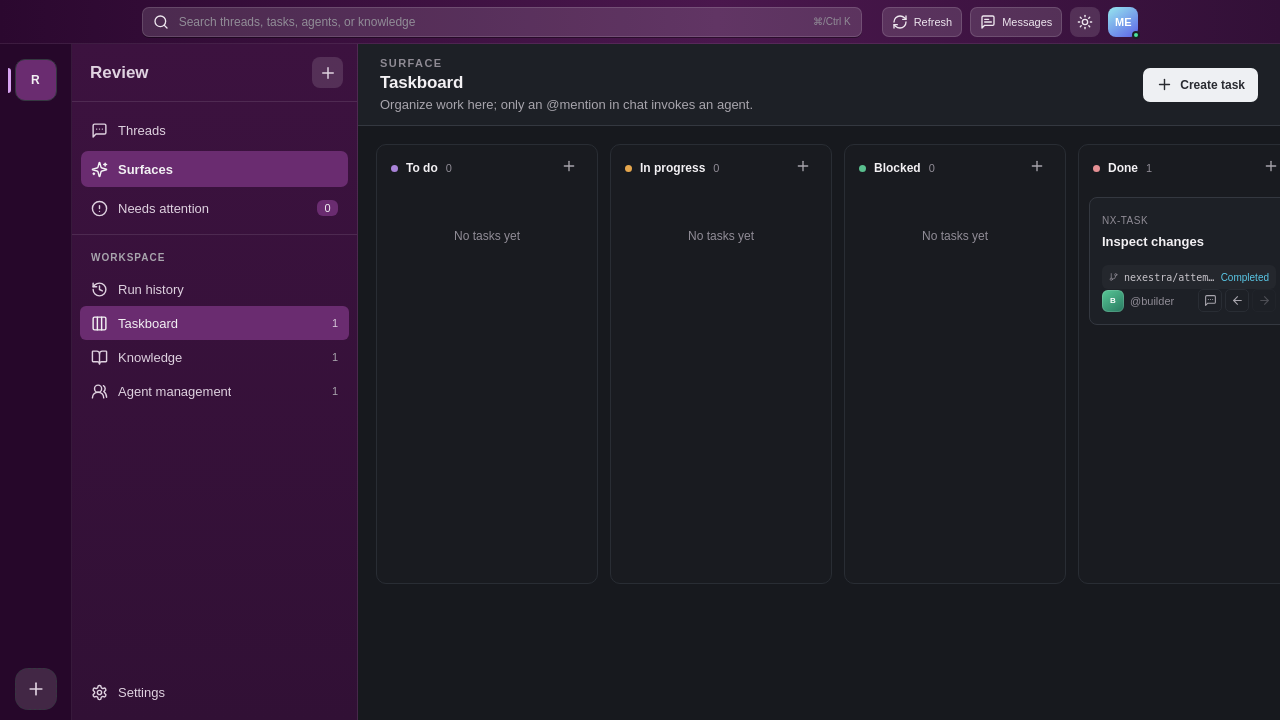
Scenario: Assignment review UI › makes every file from the bounded snapshot available in the file lists
The width and height of the screenshot is (1280, 720).
Click the button "NX-TASK Inspect changes nexestra/attempt-one completed" at {"x": 1189, "y": 250}, box [1102,210,1276,289]
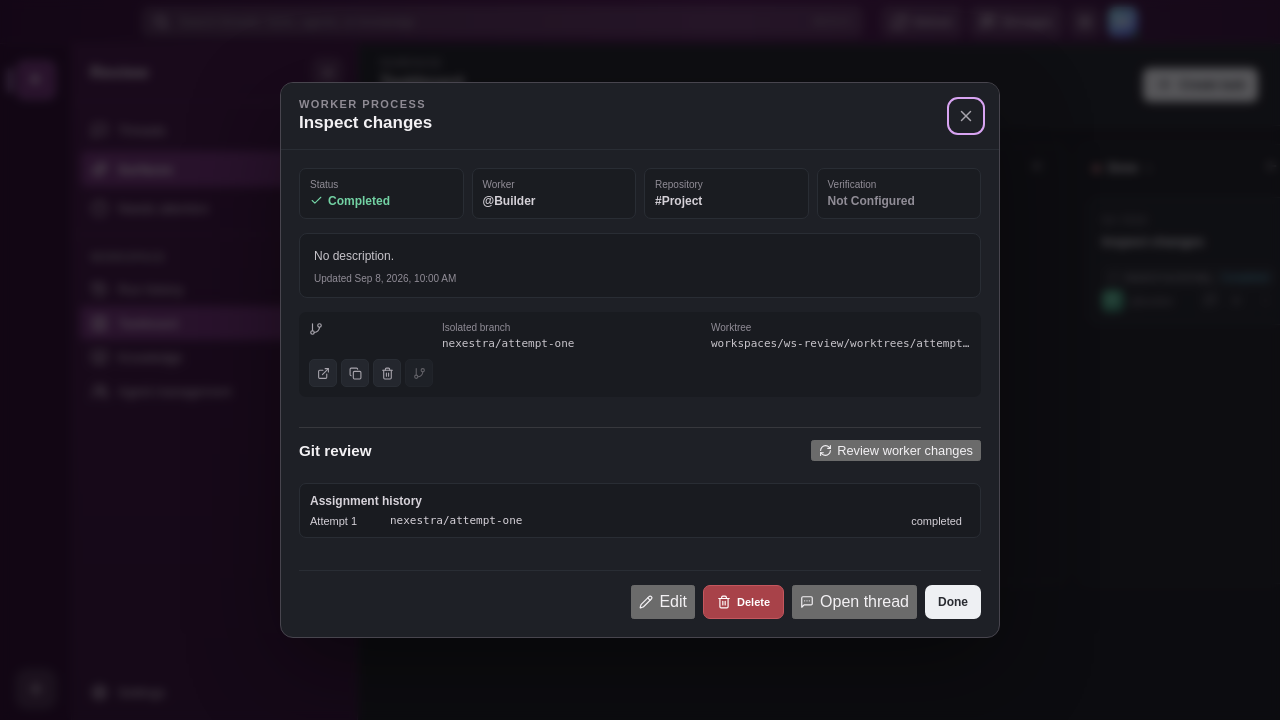
Result: the button "Review worker changes" is shown
Click the button "Review worker changes" at {"x": 896, "y": 451}, box [810,440,981,461]
(page scrolled)
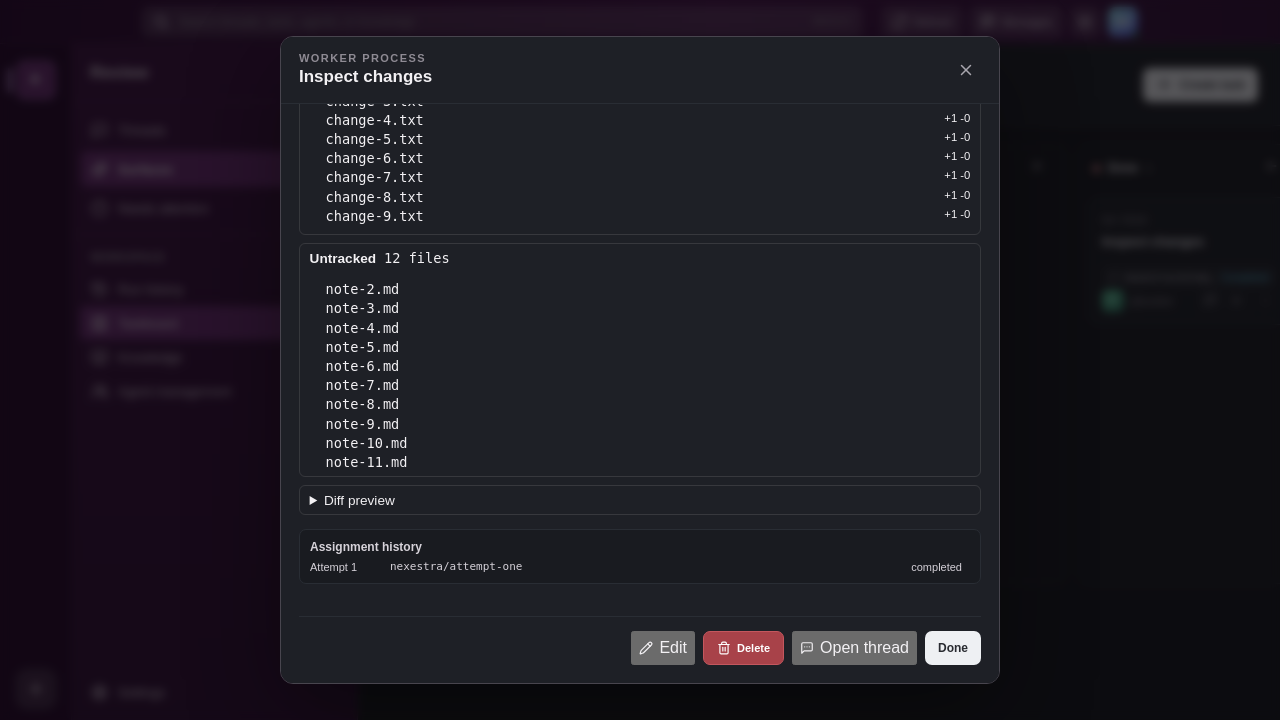
Result: the text "note-11.md" is shown at [326,454,407,470]
